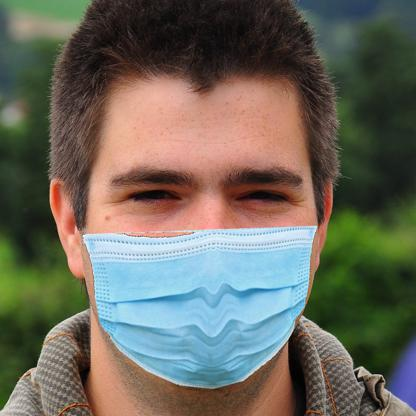mask: (79, 229, 319, 391)
